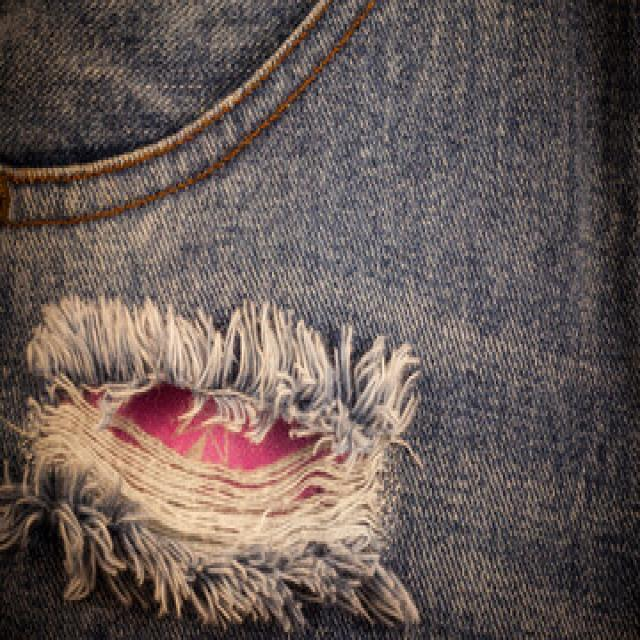Hole: (0, 297, 419, 632)
